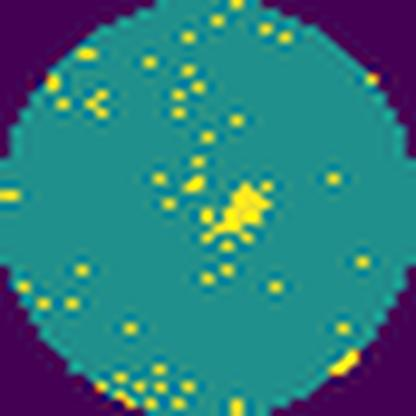Center: (201, 181, 276, 243)
